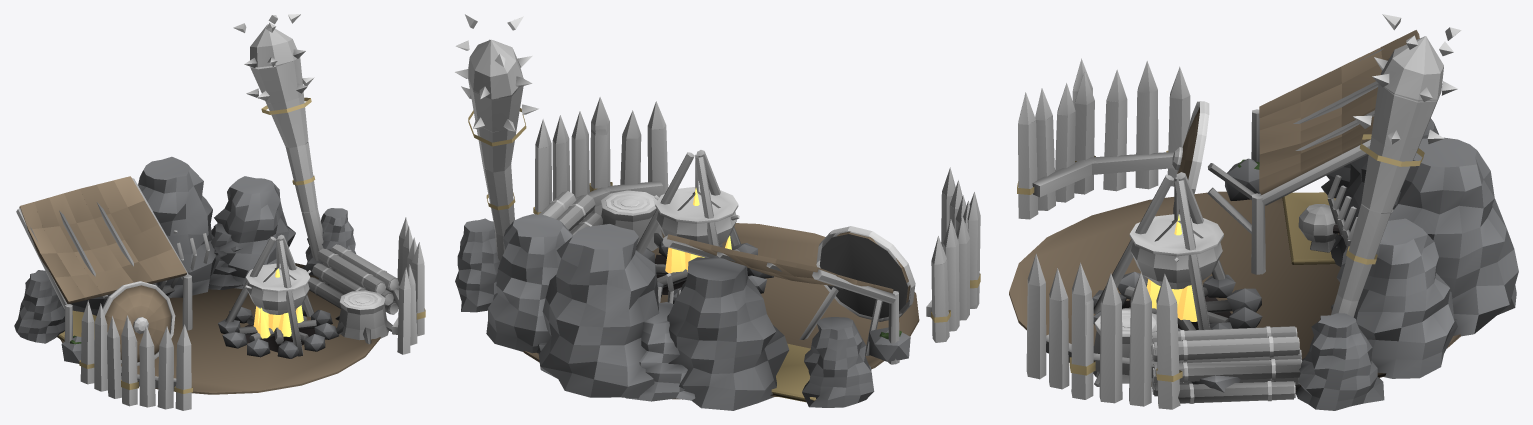
The model's file is gigantes-camp-l1.glb.
3 renders of one model, left to right at view 1: azimuth 30°, elevation 25°; view 2: azimuth 150°, elevation 25°; view 3: azimuth 270°, elevation 25°, orthographic. The views are drawn at different scales.
Parts seen in each view (by area): view 1: gigantes-camp-l1; view 2: gigantes-camp-l1; view 3: gigantes-camp-l1.
Part boxes in pixels (left/top/right/bottom): gigantes-camp-l1: left=14, top=14, right=425, bottom=410; gigantes-camp-l1: left=455, top=14, right=980, bottom=410; gigantes-camp-l1: left=1009, top=14, right=1518, bottom=410.
Size of the model in its own units: 1.56 by 1.14 by 1.44.
